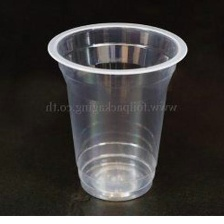glass: (39, 15, 192, 204)
